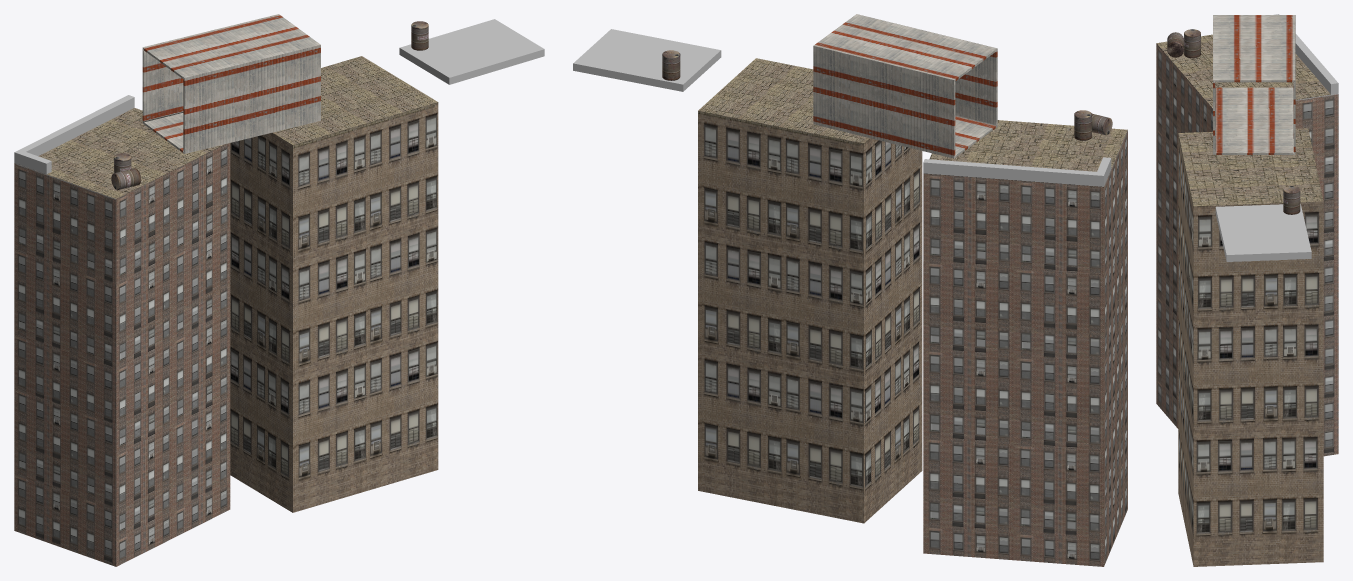
The model's file is MapCity2.FBX.
3 renders of one model, left to right at view 1: azimuth 30°, elevation 25°; view 2: azimuth 150°, elevation 25°; view 3: azimuth 270°, elevation 25°, orthographic. The views are drawn at different scales.
Parts seen in each view (by area): view 1: Box005, Box006, Box010, Box008, Box007, Box009, wall, Box004; view 2: Box006, Box005, Box009, Box008, Box007, wall, Box010, Box004; view 3: Box006, Box005, Box008, Box004, Box007, wall, Cylinder004, Cylinder001, Cylinder003, Box009, Box010.
Part boxes in pixels (left/top/right/bottom): Box005: left=14, top=108, right=230, bottom=566; Box006: left=230, top=56, right=438, bottom=512; Box010: left=183, top=45, right=320, bottom=153; Box008: left=142, top=14, right=320, bottom=78; Box007: left=399, top=19, right=544, bottom=84; Box009: left=142, top=14, right=278, bottom=122; wall: left=14, top=95, right=134, bottom=174; Box004: left=142, top=113, right=184, bottom=153; Box006: left=698, top=58, right=922, bottom=523; Box005: left=923, top=120, right=1127, bottom=566; Box009: left=813, top=46, right=955, bottom=158; Box008: left=813, top=14, right=997, bottom=80; Box007: left=573, top=29, right=721, bottom=91; wall: left=923, top=157, right=1111, bottom=186; Box010: left=858, top=14, right=997, bottom=126; Box004: left=954, top=116, right=996, bottom=158; Box006: left=1178, top=128, right=1323, bottom=566; Box005: left=1156, top=34, right=1338, bottom=456; Box008: left=1213, top=15, right=1295, bottom=82; Box004: left=1213, top=87, right=1295, bottom=154; Box007: left=1215, top=204, right=1311, bottom=261; wall: left=1274, top=14, right=1338, bottom=94; Cylinder004: left=1283, top=186, right=1300, bottom=214; Cylinder001: left=1184, top=29, right=1200, bottom=58; Cylinder003: left=1167, top=32, right=1183, bottom=57; Box009: left=1293, top=15, right=1295, bottom=154; Box010: left=1213, top=15, right=1215, bottom=154.
Bounding box in the file's own units: 1559 × 1313 × 498.
